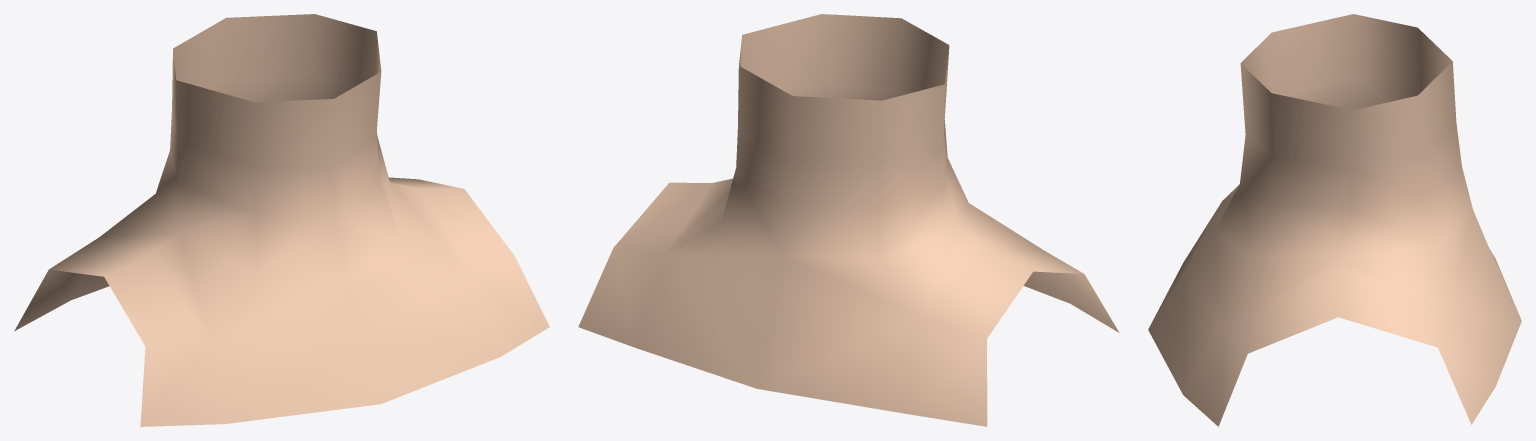
The model's file is Body_Neck.fbx.
The picture shows the model from 3 angles, left to right: view 1: azimuth 30°, elevation 25°; view 2: azimuth 150°, elevation 25°; view 3: azimuth 270°, elevation 25°; orthographic projection. The views are drawn at different scales.
Parts seen in each view (by area): view 1: Body_Neck; view 2: Body_Neck; view 3: Body_Neck.
Boxes of the visible parts, x1,y1,x2,y2 form: Body_Neck: (14, 14, 549, 426); Body_Neck: (578, 14, 1119, 426); Body_Neck: (1148, 14, 1521, 426).
Size of the model in its own units: 24.62 by 15.69 by 19.79.
